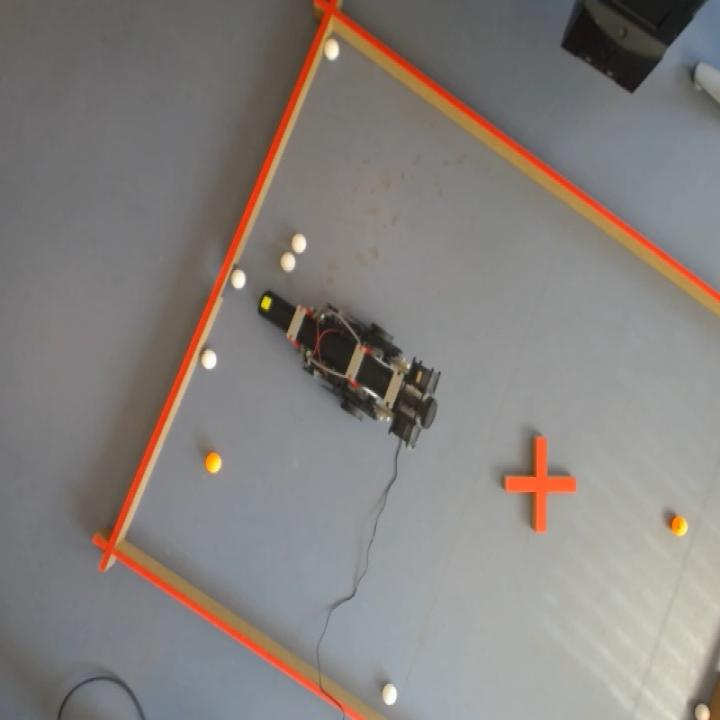orange: (668, 513, 691, 540), (204, 451, 224, 475)
robot: (258, 291, 441, 450)
robot-front: (258, 291, 291, 329)
white: (380, 681, 398, 708), (323, 35, 340, 61), (200, 348, 217, 370), (291, 233, 307, 255), (231, 267, 246, 289), (280, 252, 296, 272), (694, 702, 710, 720)
